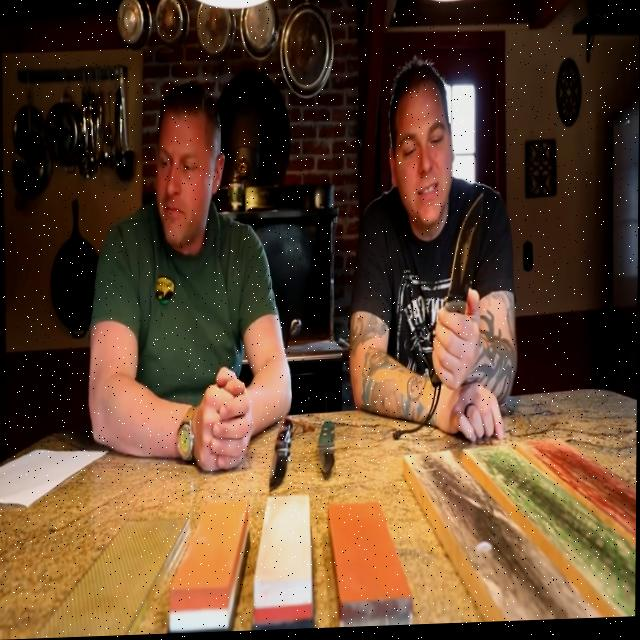knife: (444, 193, 488, 316), (263, 392, 298, 499), (316, 413, 339, 483)
